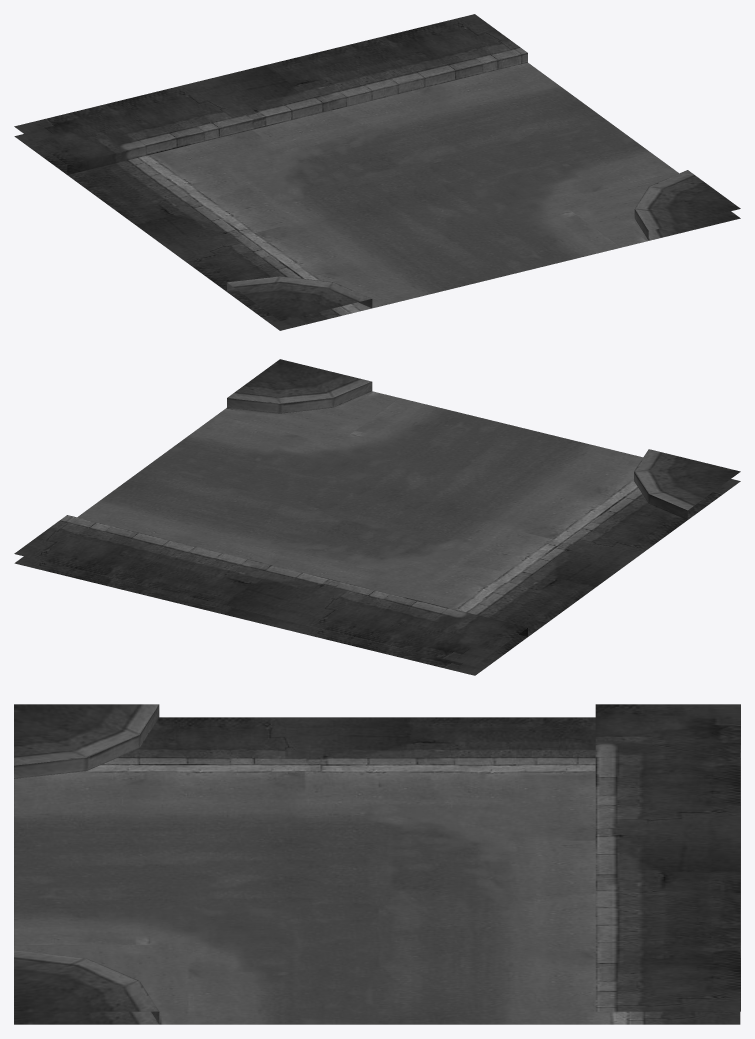
File: road.obj
3 renders of one model, top to bottom at view 1: azimuth 30°, elevation 25°; view 2: azimuth 150°, elevation 25°; view 3: azimuth 270°, elevation 25°, orthographic. The views are drawn at different scales.
Parts seen in each view (by area): view 1: group; view 2: group; view 3: group.
Boxes of the visible parts, left/top/right/bottom form: group: left=14, top=14, right=740, bottom=330; group: left=14, top=359, right=740, bottom=675; group: left=14, top=704, right=740, bottom=1024.
Bounding box in the file's own units: 10 × 0.2 × 10.
